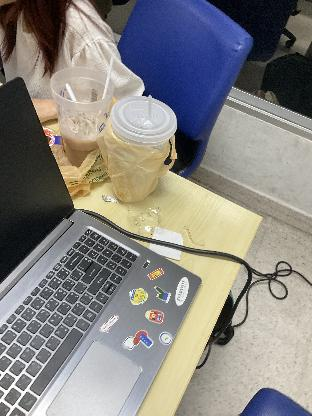Plastic Cup: (115, 88, 175, 204), (52, 66, 112, 166)
